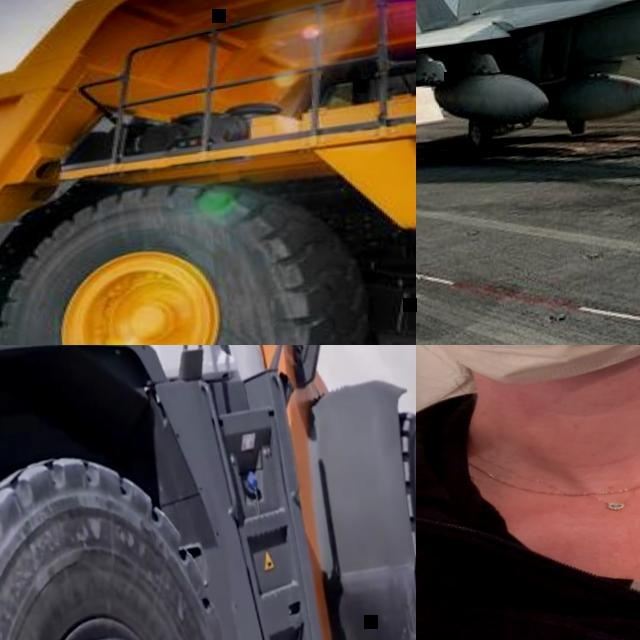NO-Safety Vest: (416, 380, 640, 640)
Person: (416, 345, 640, 640)
machinery: (0, 0, 416, 345), (0, 345, 416, 640)
